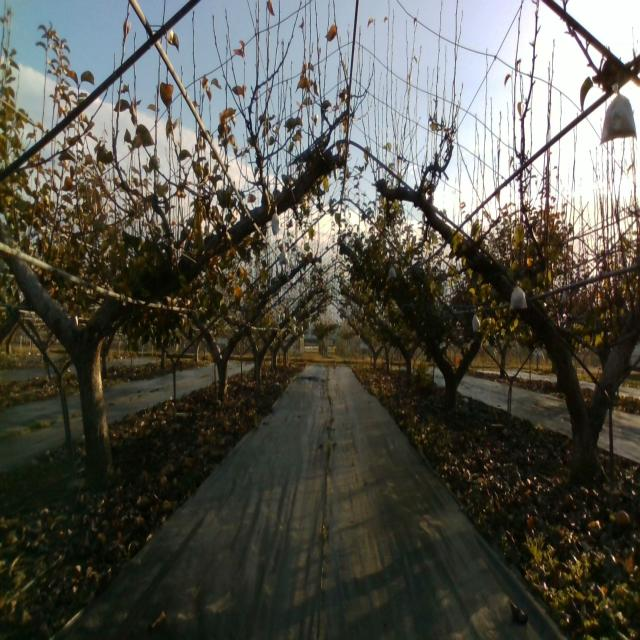pearbags: (598, 82, 638, 146), (509, 281, 528, 311)
